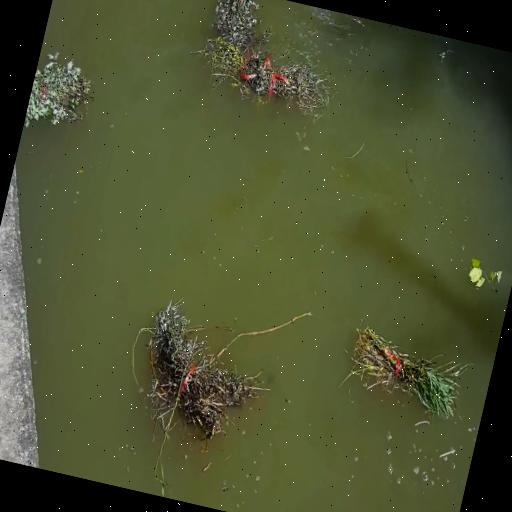twig: (120, 288, 290, 467), (336, 317, 474, 423), (202, 41, 336, 120), (22, 44, 100, 142), (206, 0, 269, 54)
